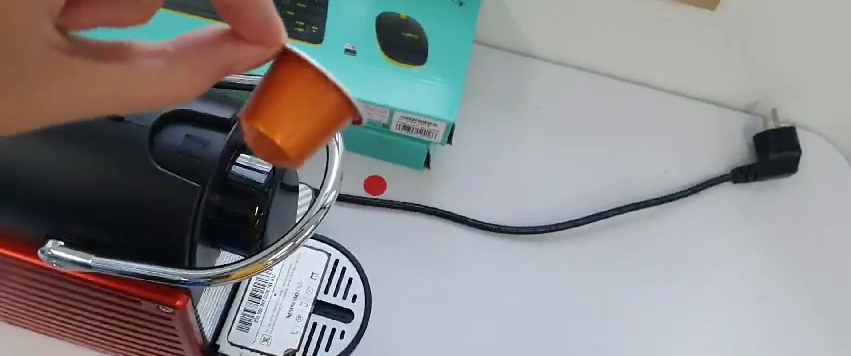capsule_5: (236, 41, 366, 168)
